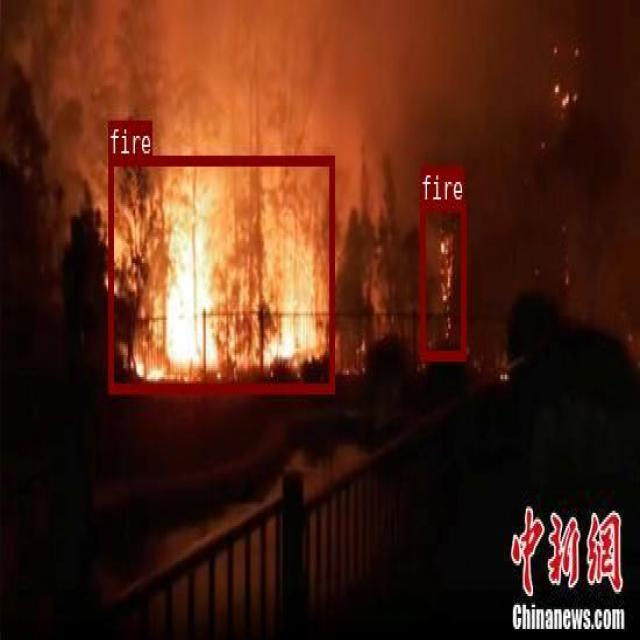fire: (108, 154, 333, 391), (420, 201, 465, 357)
